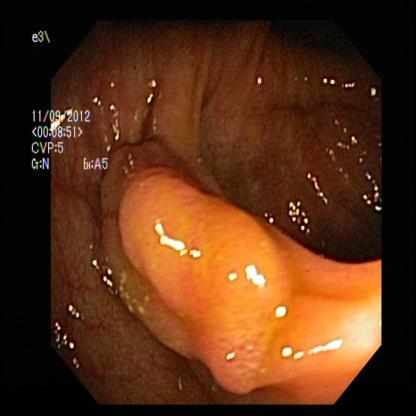Polyps: (118, 172, 331, 390)
